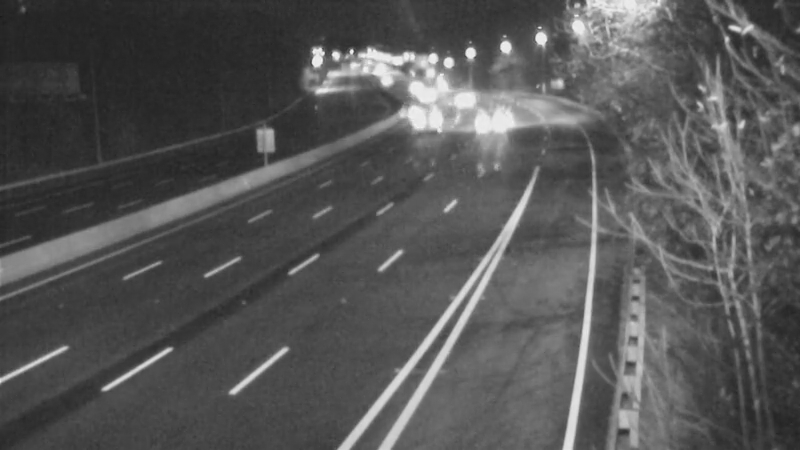vehicle: (404, 71, 454, 121), (437, 75, 487, 125), (387, 85, 437, 135), (460, 98, 510, 148), (405, 93, 455, 143)
